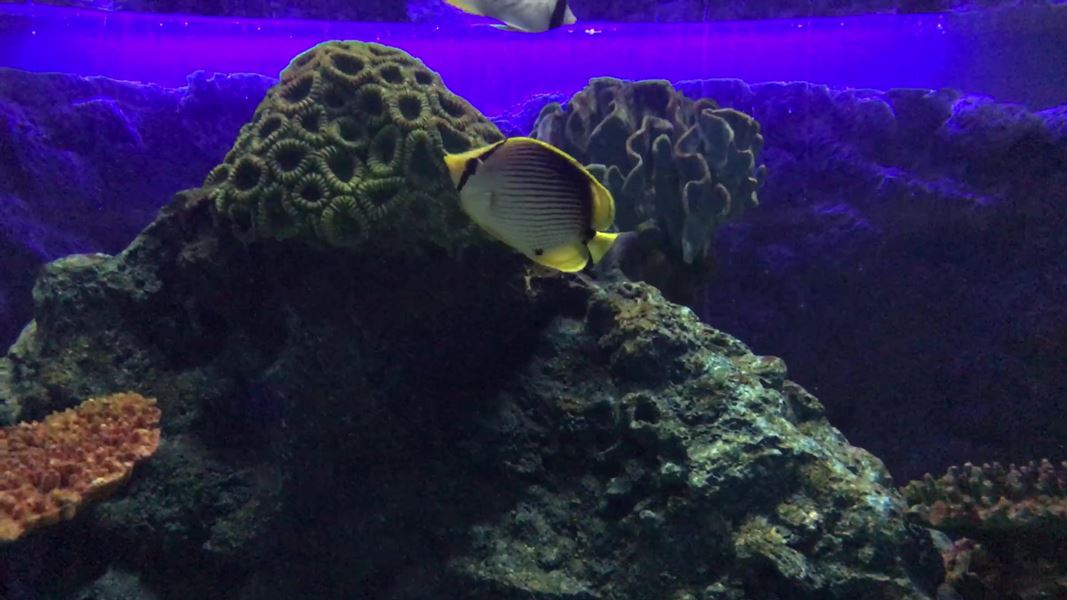Black-backed butterflyfish: (431, 128, 651, 297)
